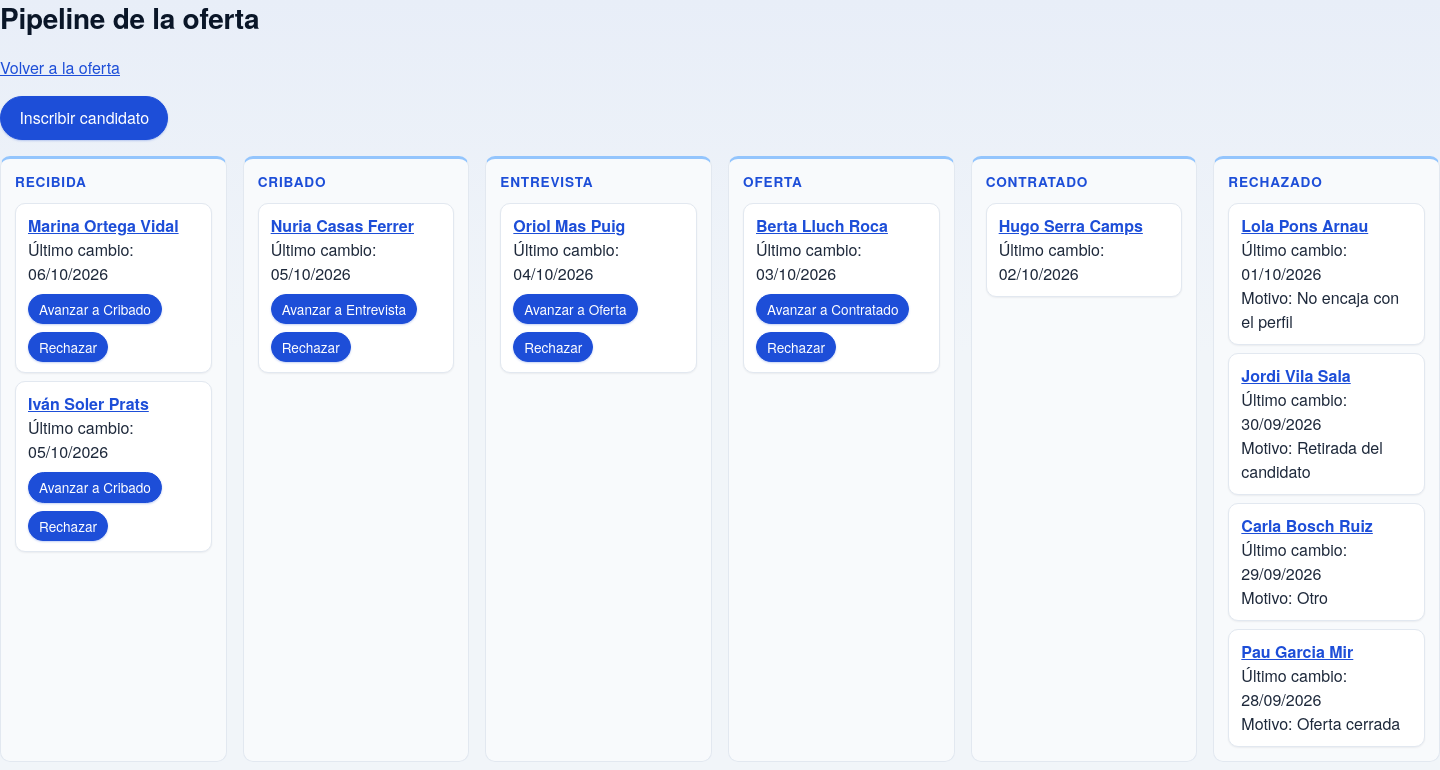
PipelineScreen: hostiles y fallos (RF-07, RF-08) › EC-42/EC-43: timeout y reintento → 409 DUPLICATE verídico, alerta en el panel y la recarga enseña la tarjeta en Recibida
Click the button "Inscribir candidato": [84, 118] box [0, 96, 168, 140]
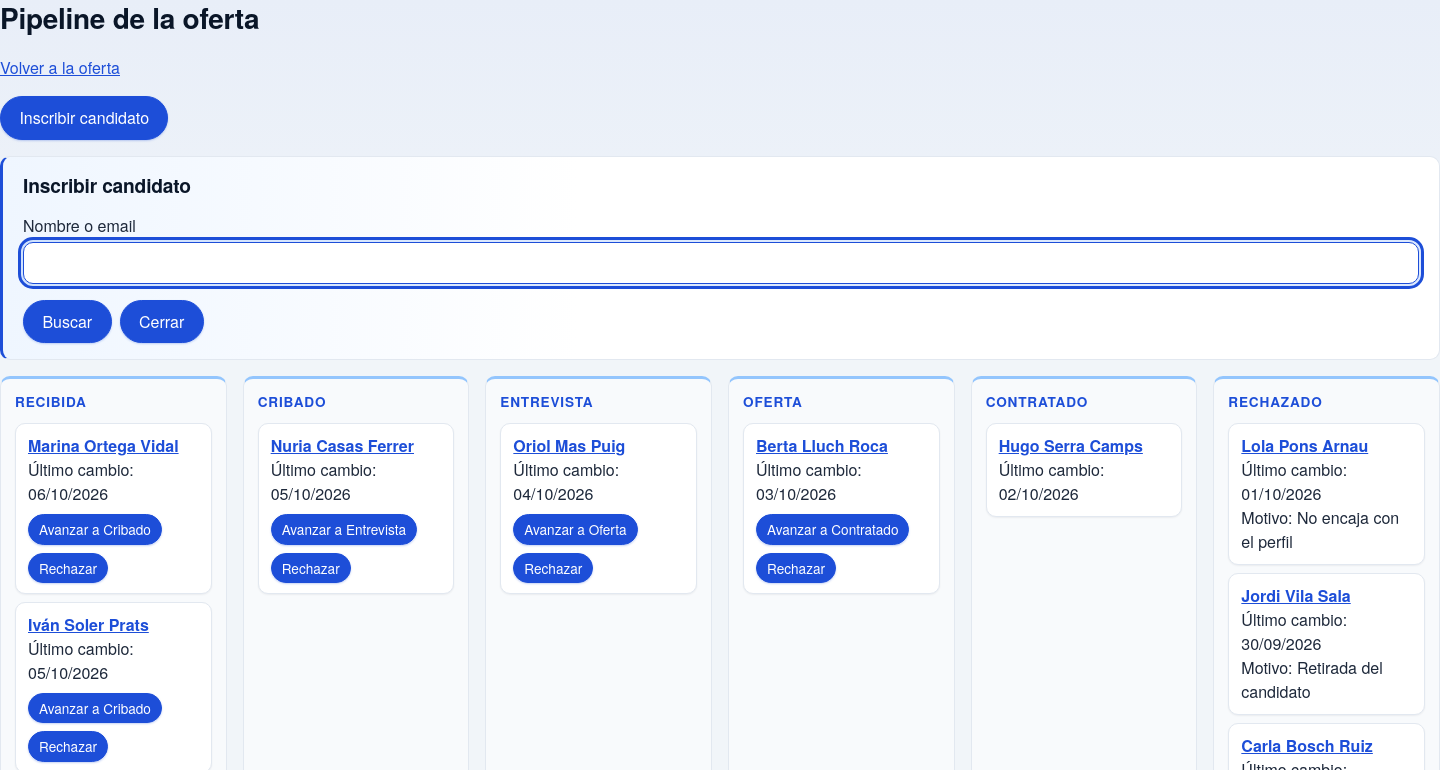
In the search field labelled "Nombre o email": [721, 263] box [23, 242, 1419, 284], type "ana"
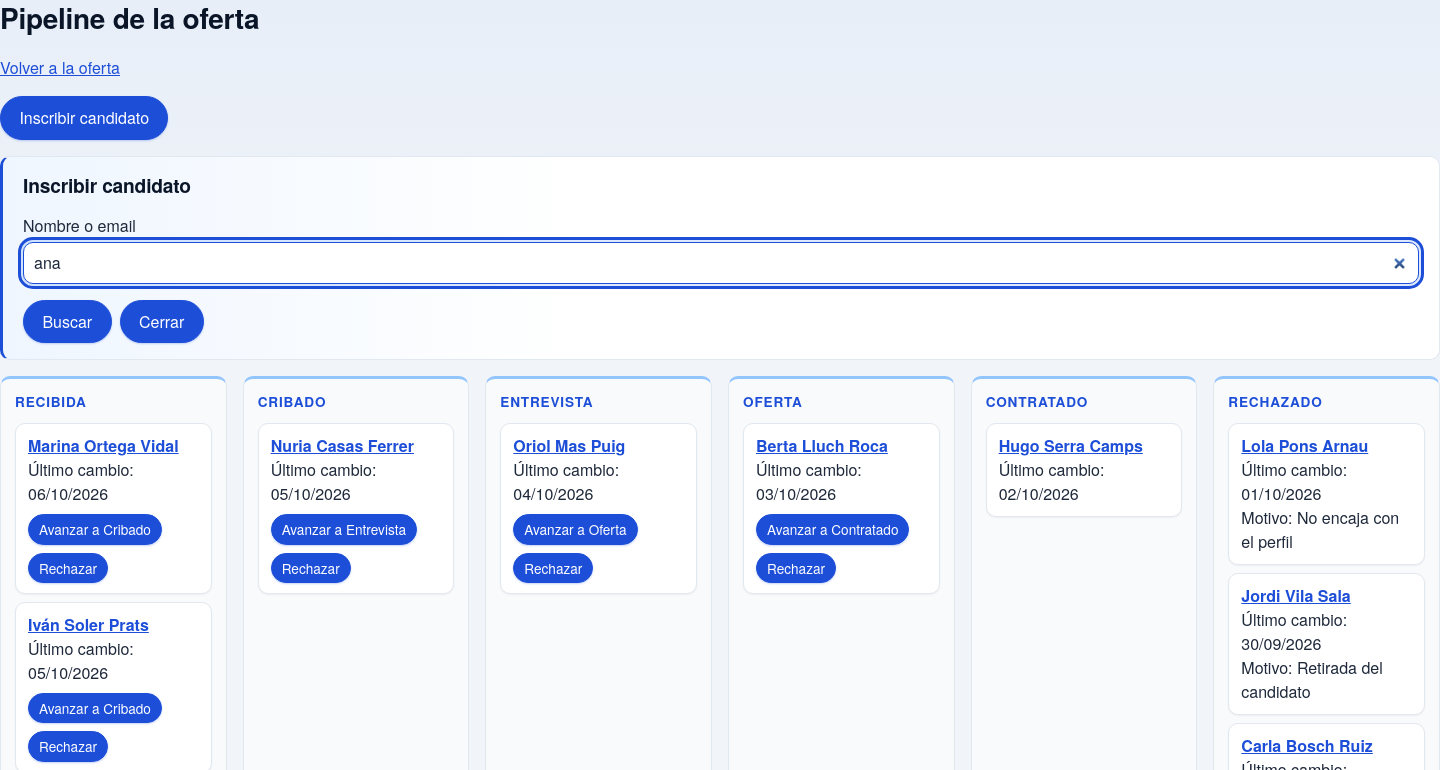
Click the button "Buscar": [67, 322] box [23, 300, 112, 344]
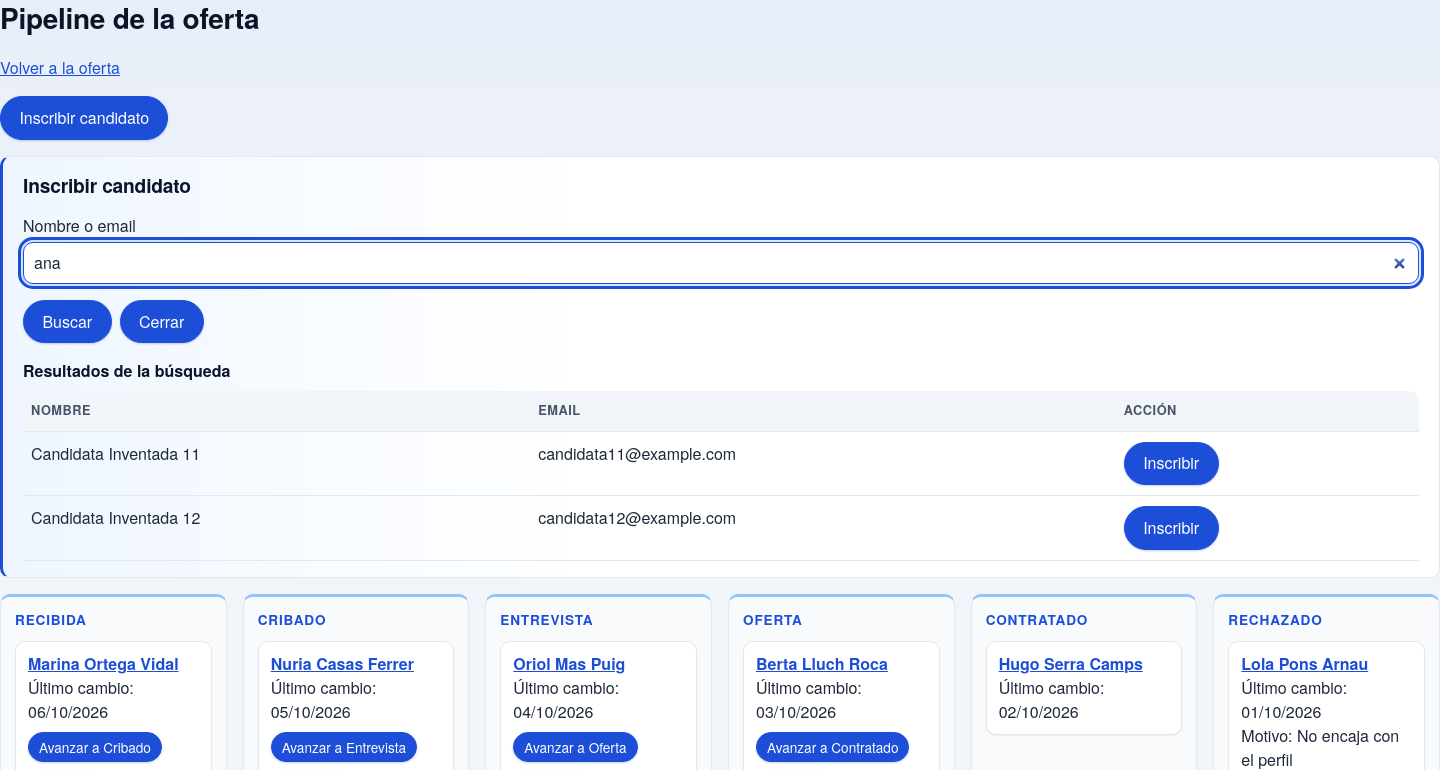
Check: the table "Resultados de la búsqueda" is shown, box [23, 360, 1419, 561]
Click the button "Inscribir" in the row of "Candidata Inventada 12": [1171, 528] box [1124, 506, 1219, 550]
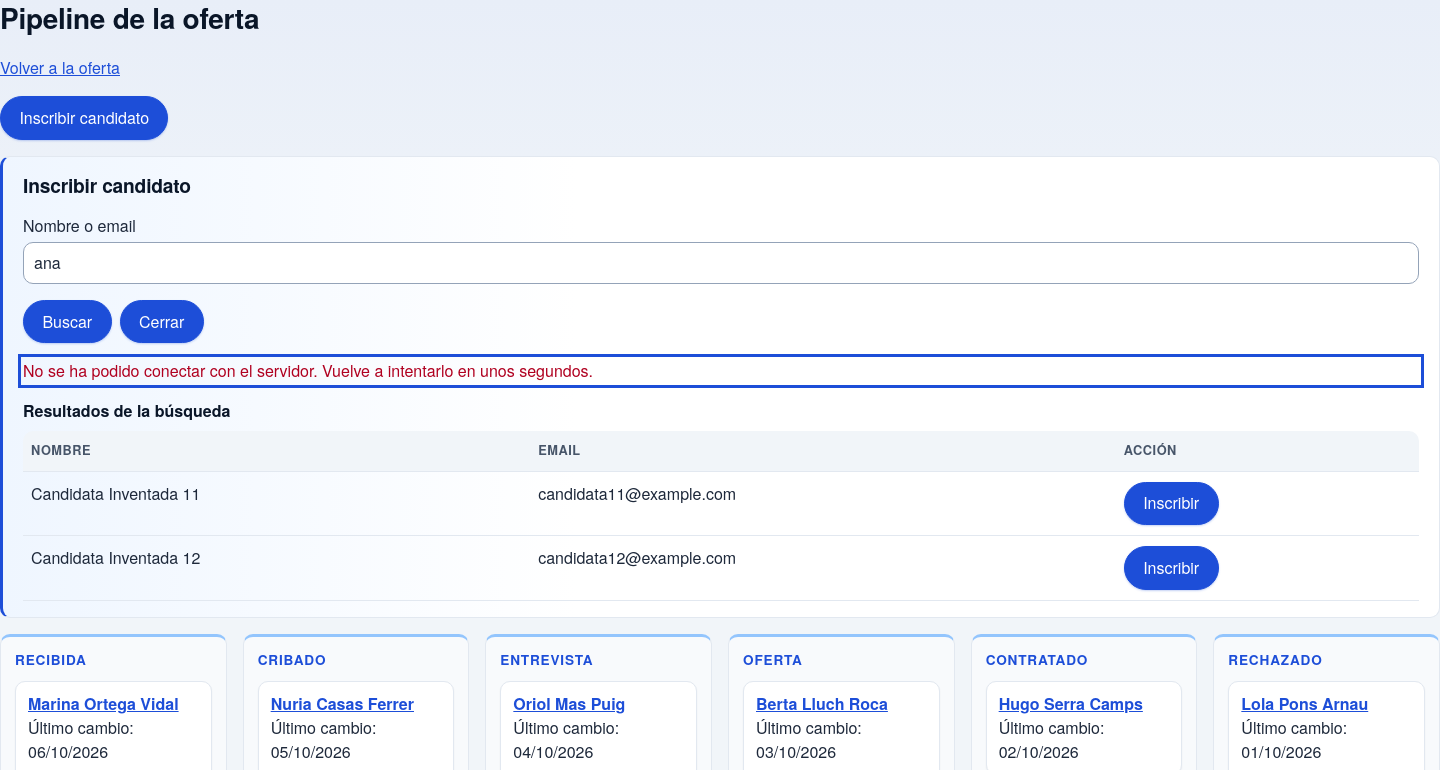
Check: the message reads "No se ha podido conectar con el servidor. Vuelve a intentarlo en unos segundos.", box [23, 360, 593, 382]
Click the button "Inscribir" in the row of "Candidata Inventada 12": [1171, 568] box [1124, 546, 1219, 590]
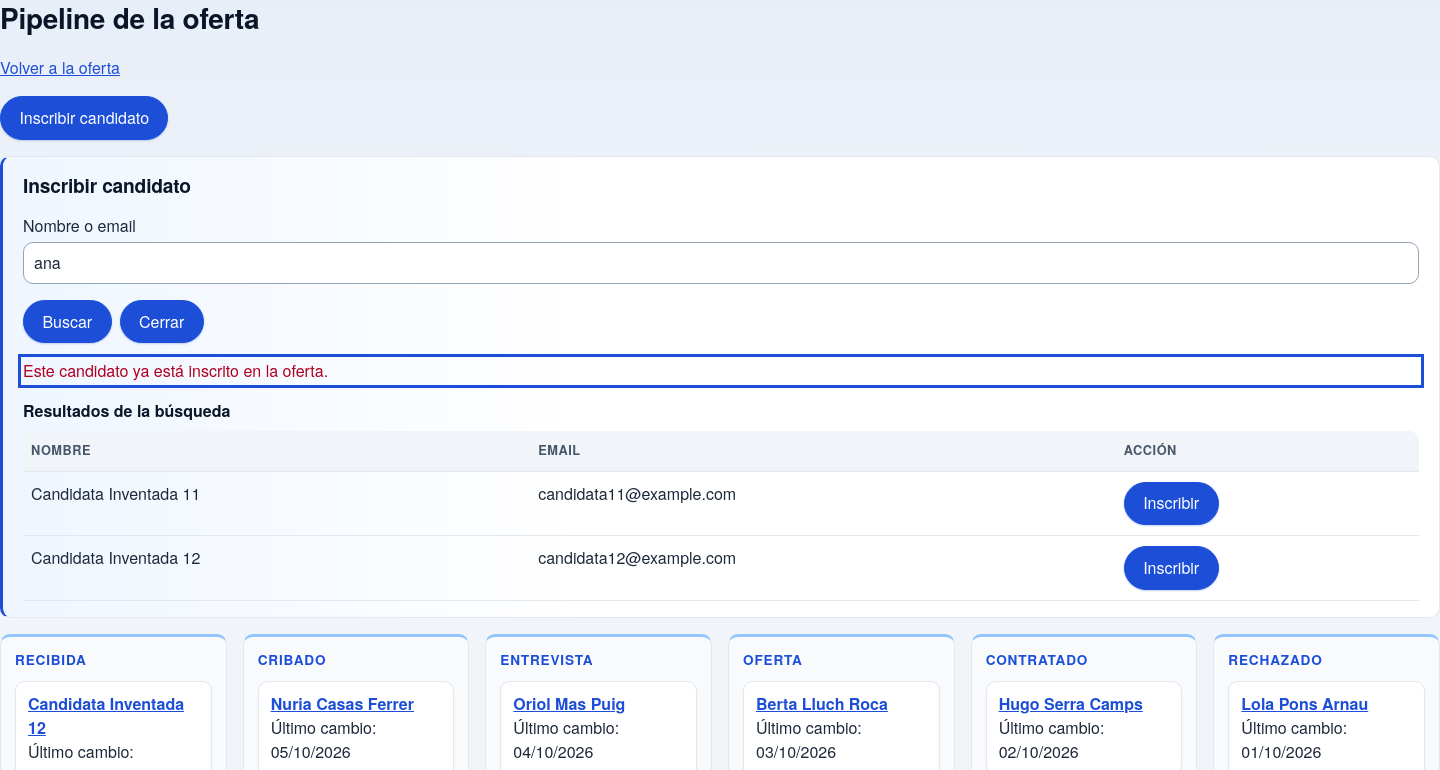
Check: the cell "Candidata Inventada 12" is shown, box [23, 536, 530, 600]
Check: the element "Inscribir candidato" is shown, box [0, 156, 1439, 618]
Check: the message reads "Este candidato ya está inscrito en la oferta.", box [23, 360, 328, 382]
